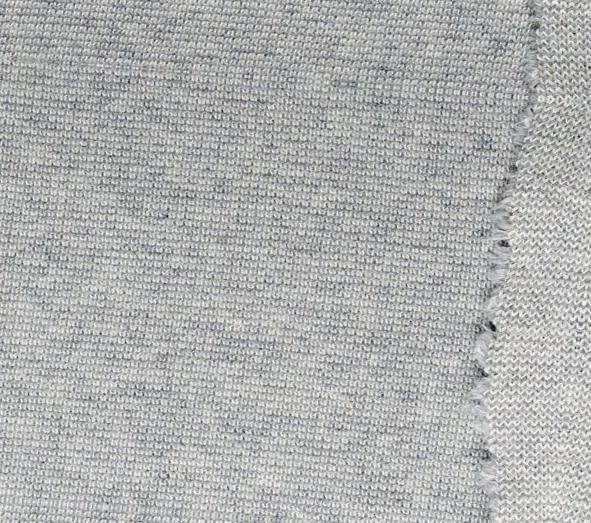slub: (458, 1, 553, 523)
